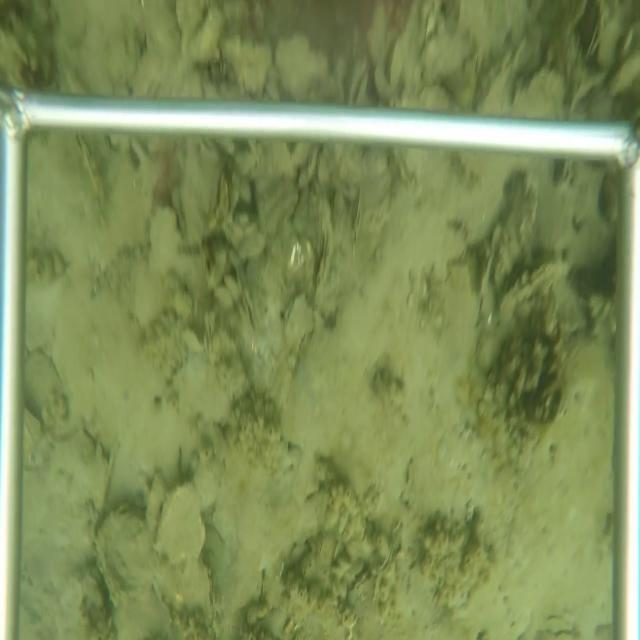Oyster-Closed: (499, 255, 569, 334), (152, 556, 216, 628), (474, 225, 505, 334), (229, 245, 261, 346), (74, 131, 108, 223), (371, 527, 402, 612), (311, 195, 334, 303), (582, 7, 606, 65), (345, 568, 372, 610), (352, 187, 365, 250), (315, 151, 331, 186), (307, 143, 316, 186)
Oyster-Indeterminate: (95, 506, 154, 610), (153, 481, 209, 559), (22, 348, 66, 432)
Oyster-Open: (346, 55, 369, 105)
